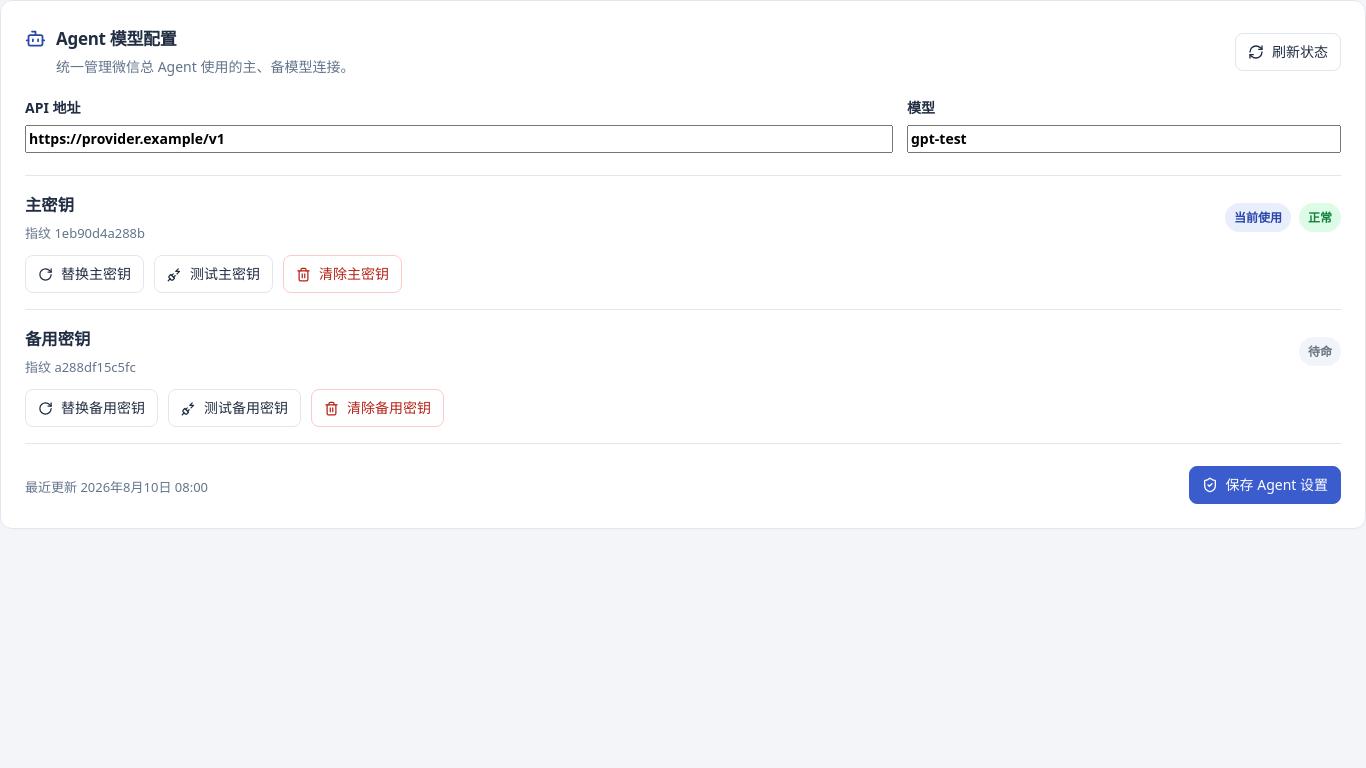
Test: clear fallback requires the exact confirmation phrase
Expected: the text "指纹 a288df15c5fc" is shown, [25,356,136,377]
Click the button "清除备用密钥". click: (378, 408)
box: [311,389,444,427]
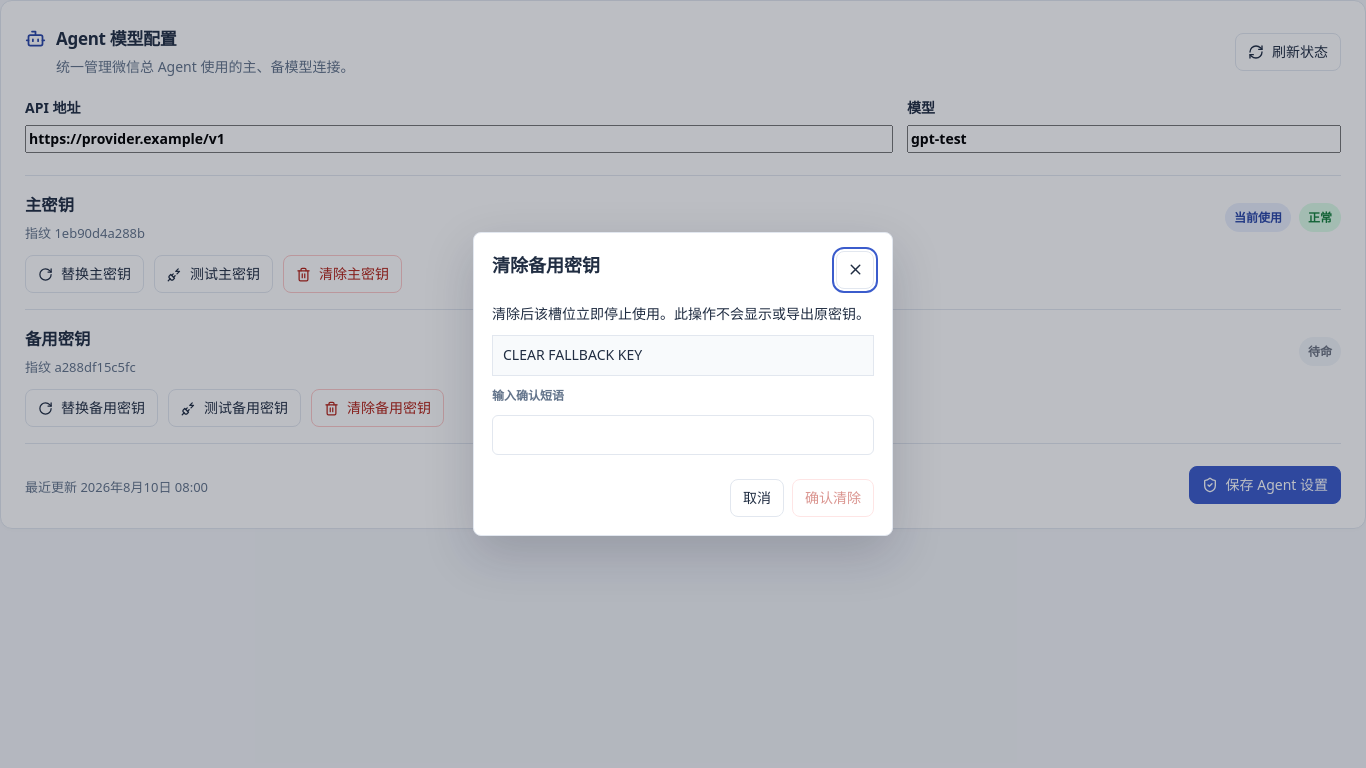
Expected: the button "确认清除" is disabled, [792,479,874,517]
Type "clear fallback key" into the field labelled "输入确认短语". click: (683, 435)
box: [492,415,874,455]
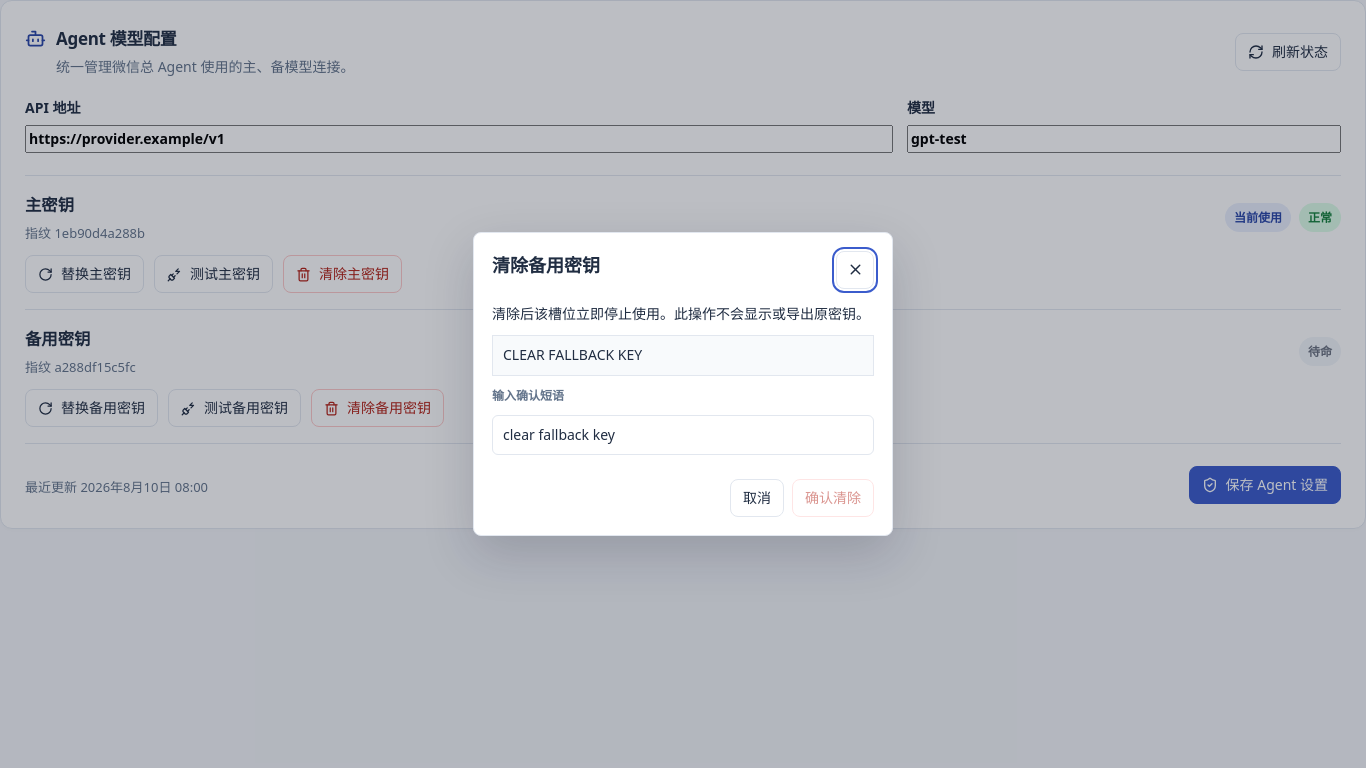
Expected: the button "确认清除" is disabled, [792,479,874,517]
Replace the text in the field labelled "输入确认短语" with "CLEAR FALLBACK KEY". click: (683, 435)
box: [492,415,874,455]
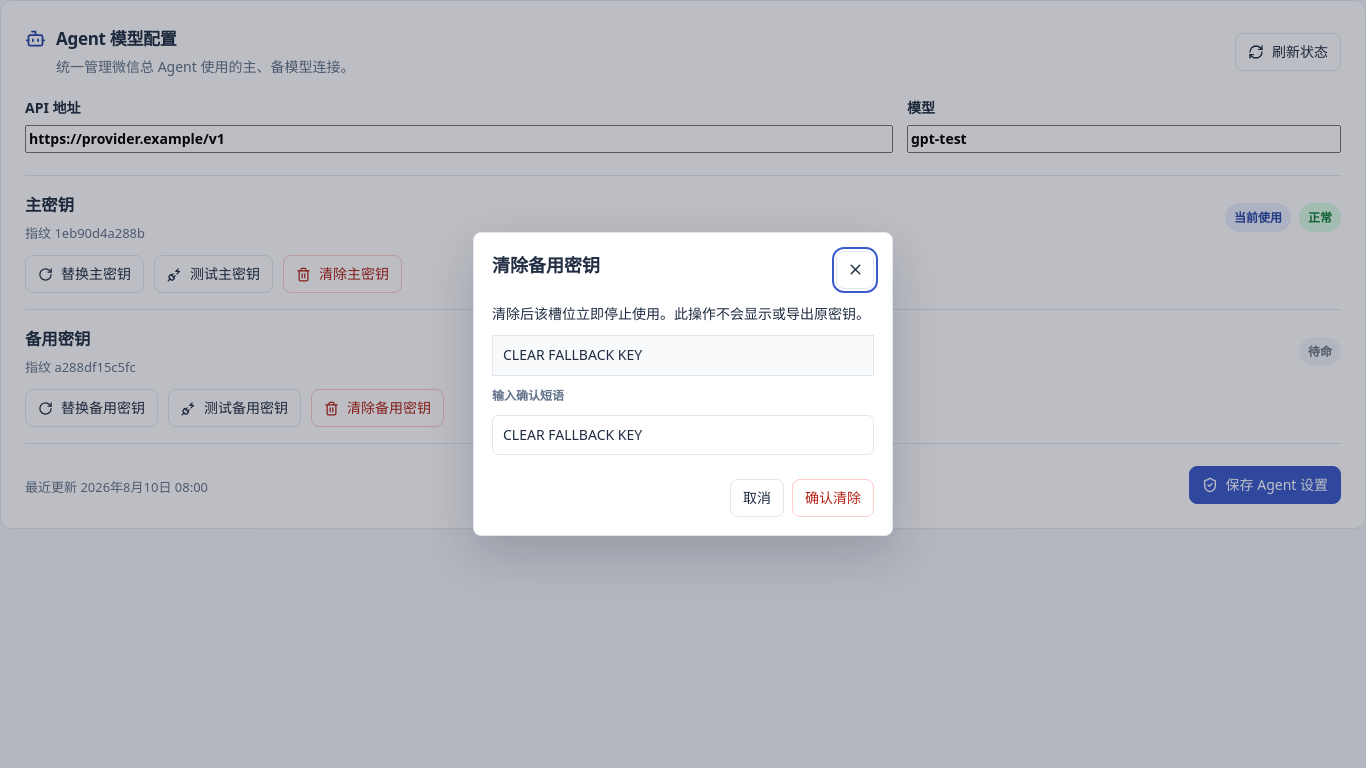
Expected: the button "确认清除" is enabled
Click the button "确认清除". click: (833, 498)
box: [792,479,874,517]
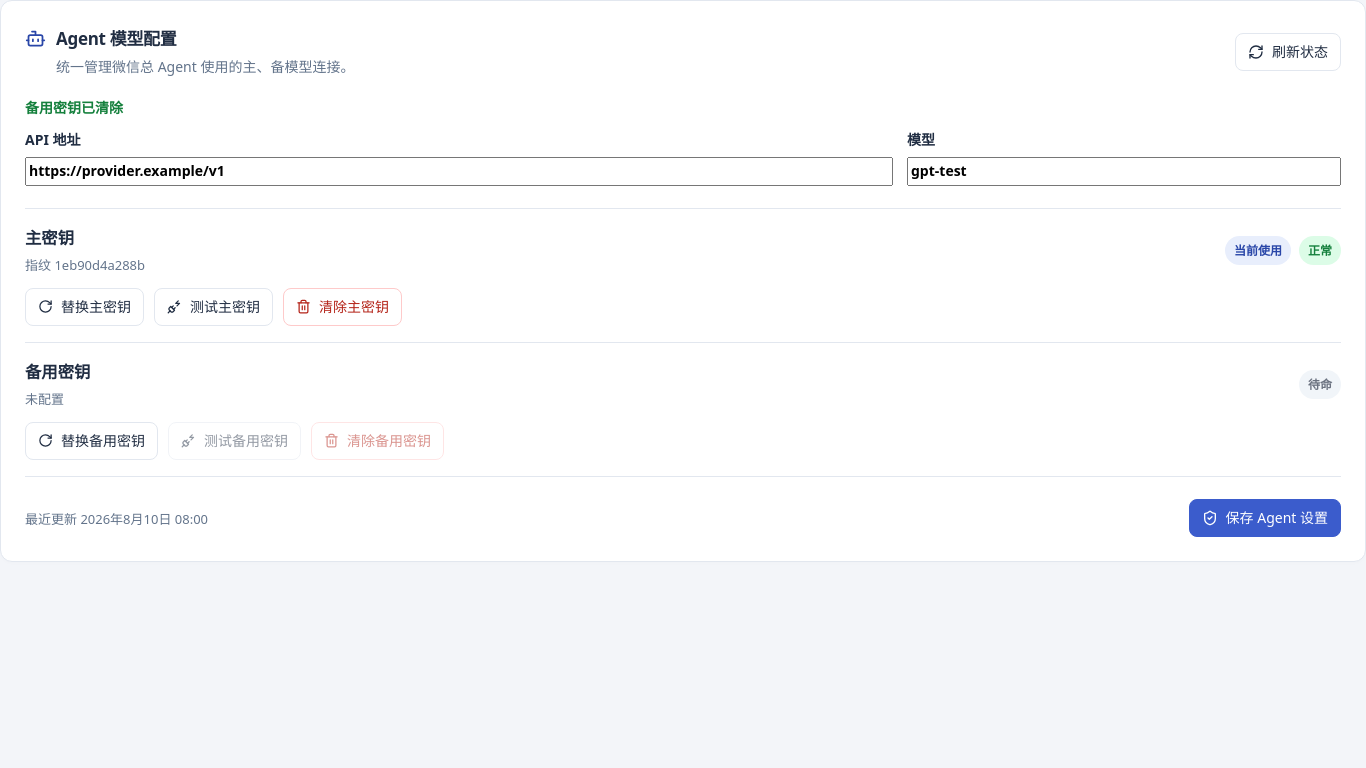
Expected: the text "备用密钥已清除" is shown, [25,98,123,117]
